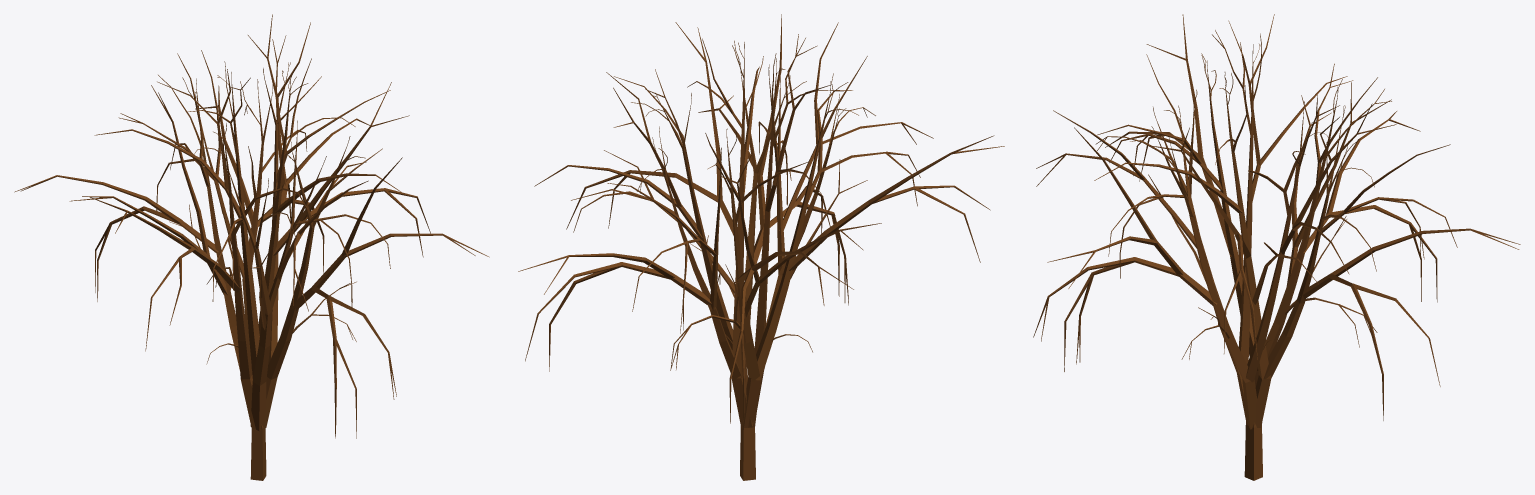
The model's file is tree_1.glb.
3 renders of one model, left to right at view 1: azimuth 30°, elevation 25°; view 2: azimuth 150°, elevation 25°; view 3: azimuth 270°, elevation 25°, orthographic. The views are drawn at different scales.
Parts seen in each view (by area): view 1: tree; view 2: tree; view 3: tree.
Boxes of the visible parts, box(x1,y1,x2,y2) form: tree: box(14, 14, 489, 480); tree: box(518, 14, 1004, 480); tree: box(1033, 14, 1520, 480).
Size of the model in its own units: 2.74 by 2.96 by 3.
